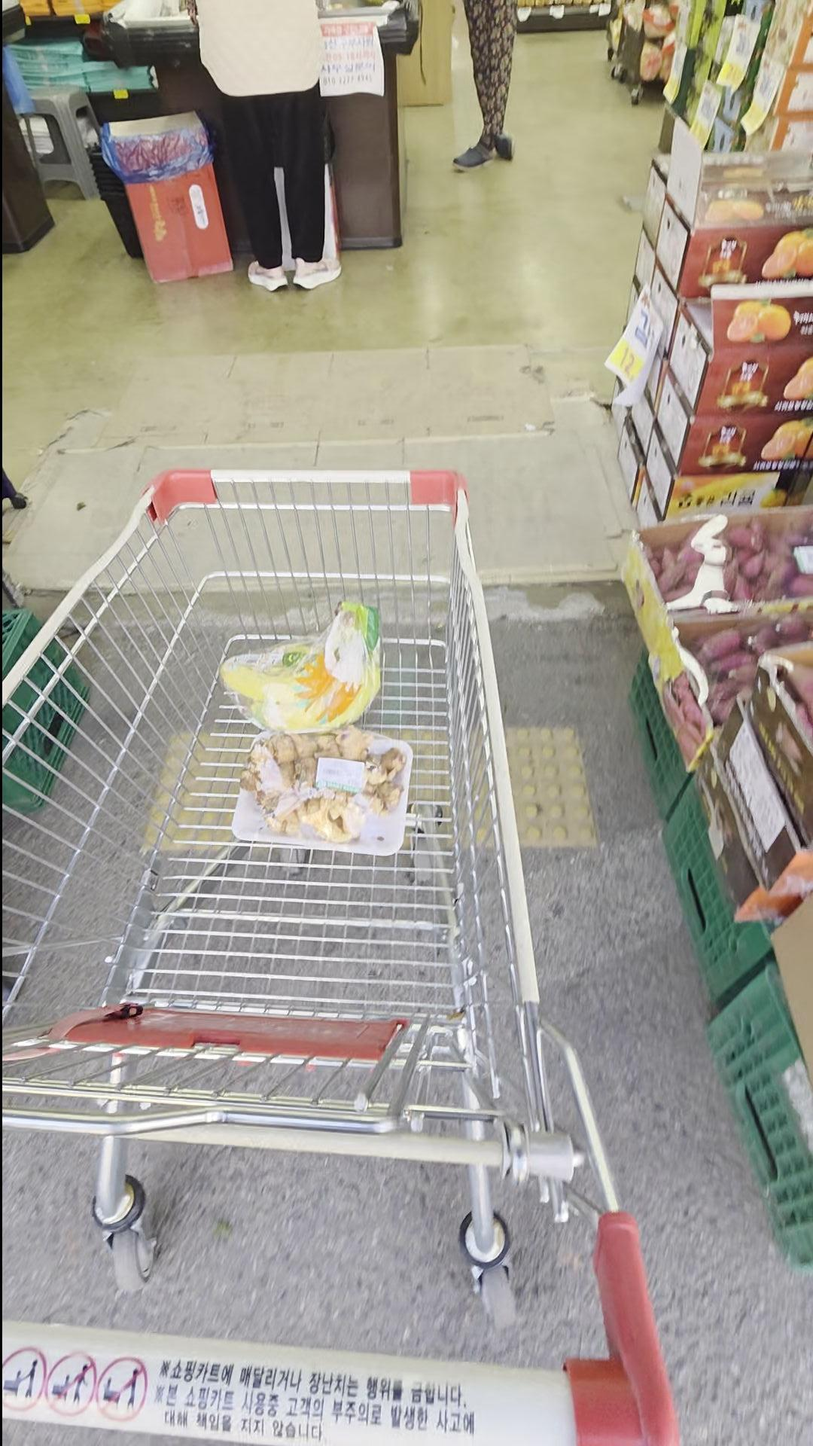fully_cart: (0, 462, 682, 1436)
